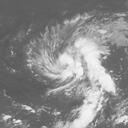cyclone: (26, 11, 115, 87)
